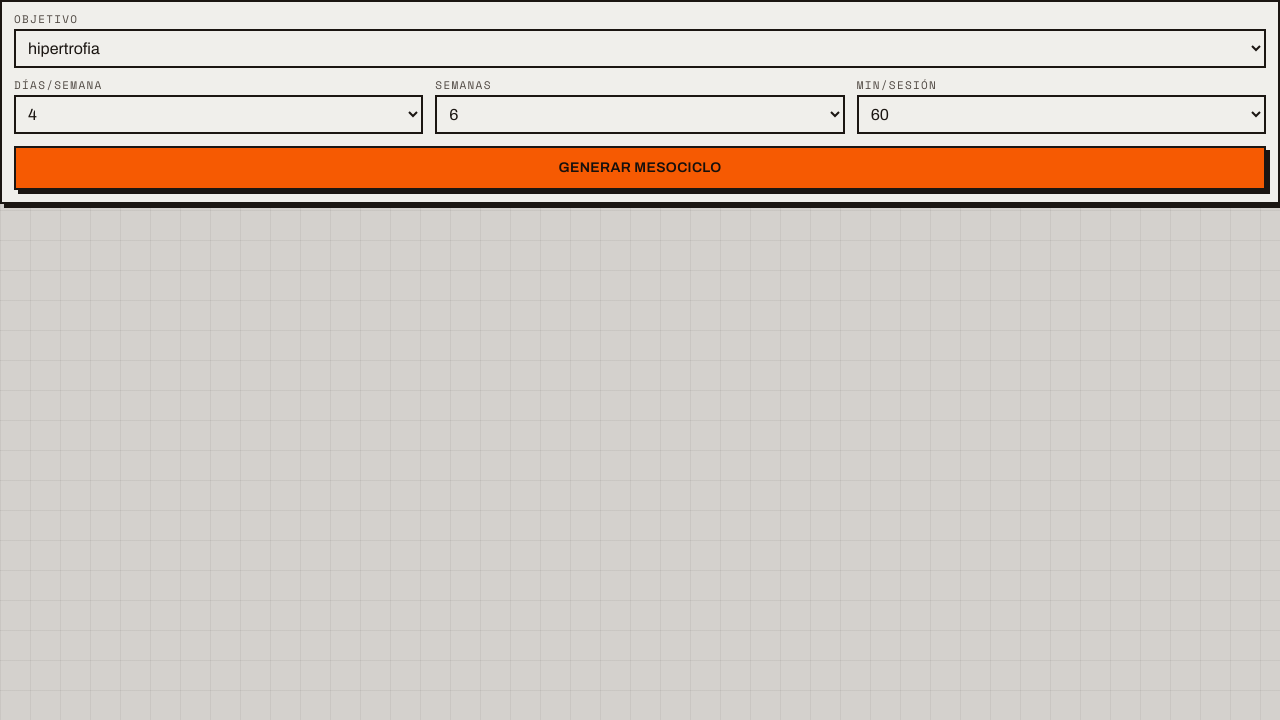
Test: muestra error si la generación falla
Step 1. Click the button "Generar mesociclo" → (640, 168), box [14,146,1266,190]
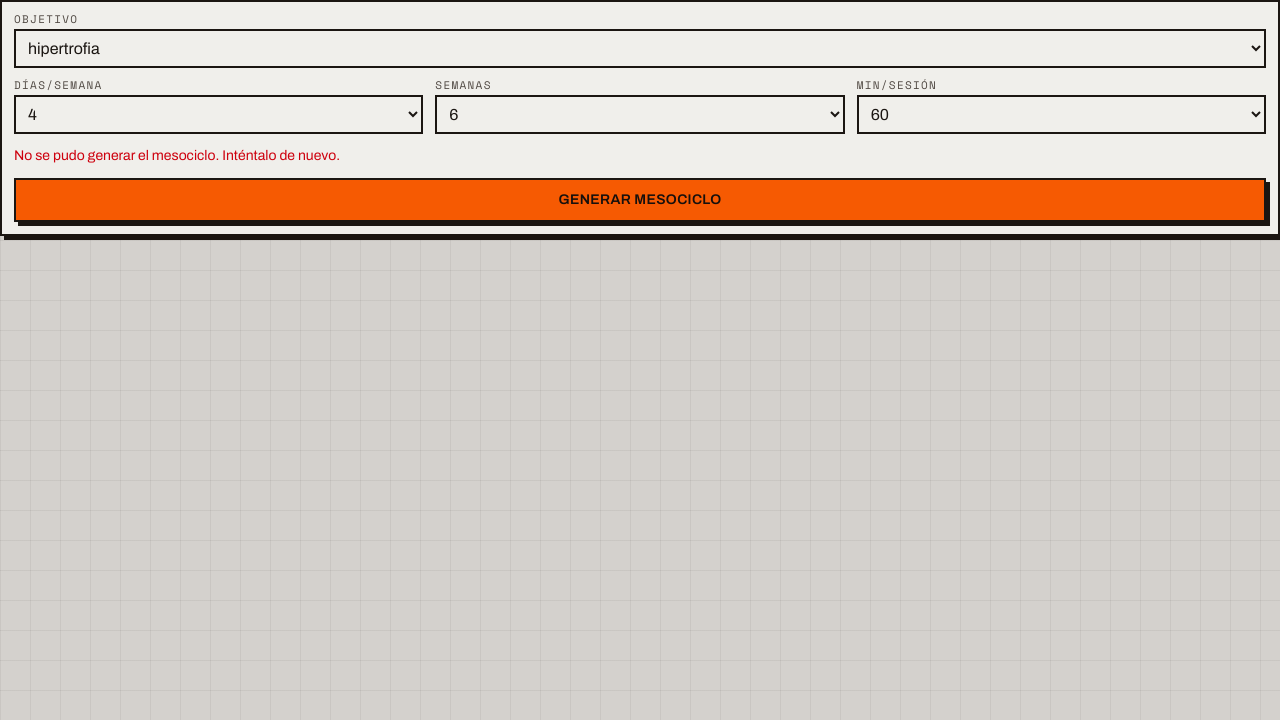
Expected: the text "No se pudo generar el mesociclo. Inténtalo de nuevo." is shown, [14,148,340,163]
